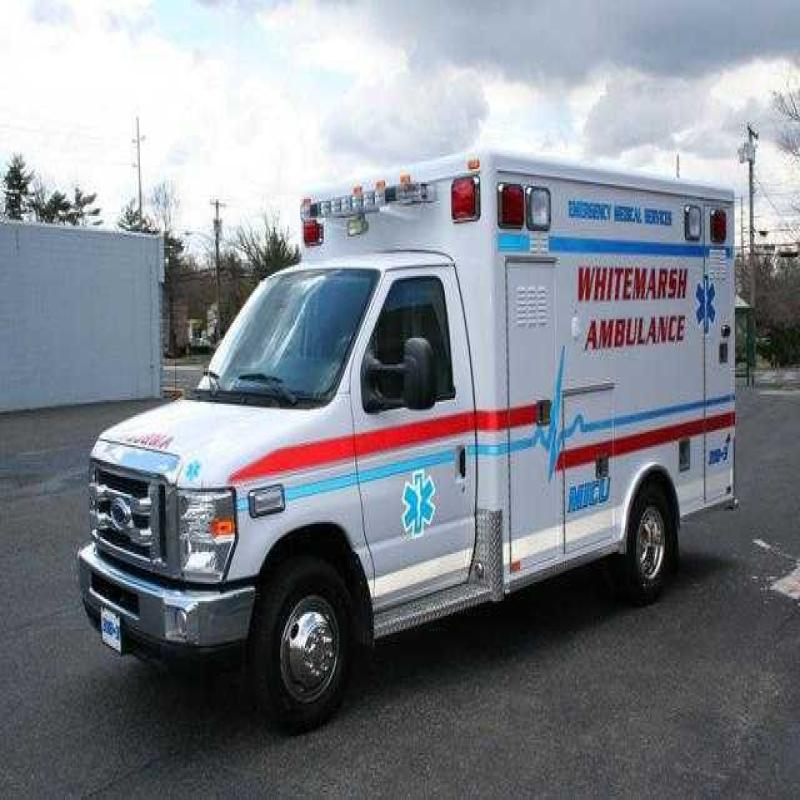AmbulanceSiren: (495, 173, 558, 244), (306, 208, 337, 250)
